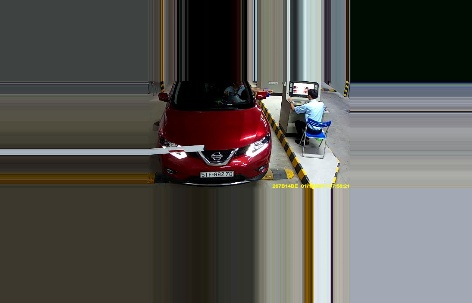plate: (197, 168, 234, 177)
